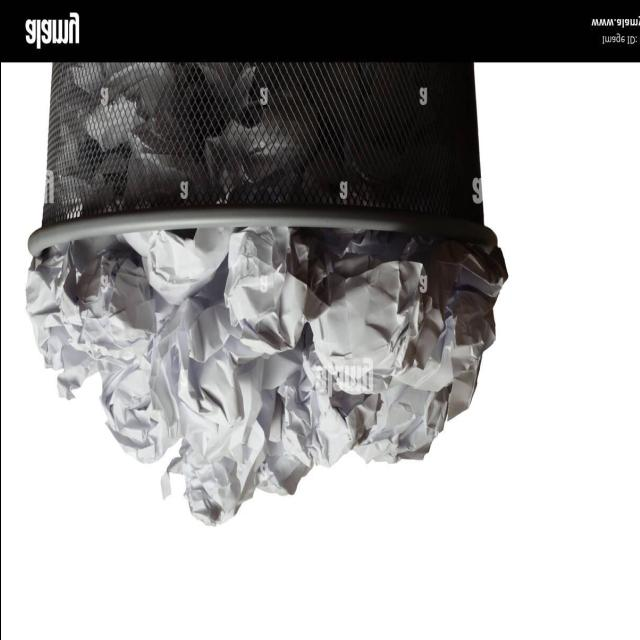kertas: (23, 62, 507, 527)
